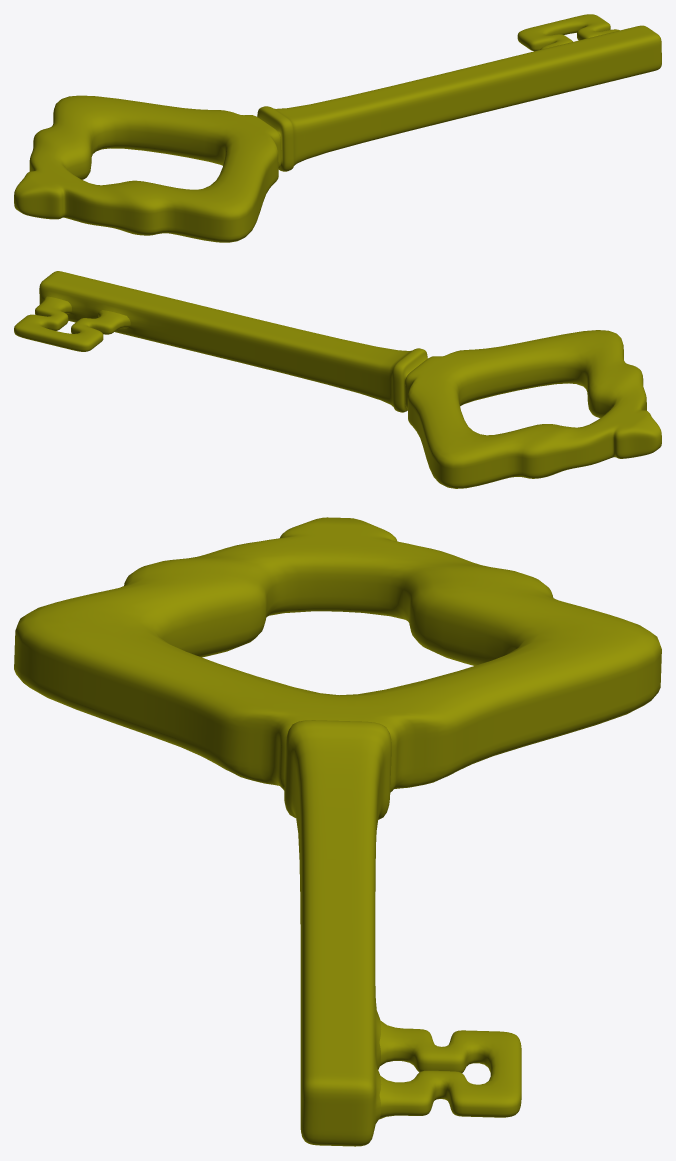
The model's file is key.gltf.
The picture shows the model from 3 angles, top to bottom: view 1: azimuth 30°, elevation 25°; view 2: azimuth 150°, elevation 25°; view 3: azimuth 270°, elevation 25°; orthographic projection. The views are drawn at different scales.
Visible parts, largest first — view 1: SM_Key; view 2: SM_Key; view 3: SM_Key.
Boxes of the visible parts, x1,y1,x2,y2 form: SM_Key: (14,14,661,242); SM_Key: (14,271,661,488); SM_Key: (14,517,661,1146).
Bounding box in the file's own units: 2 × 0.1558 × 0.9391.
